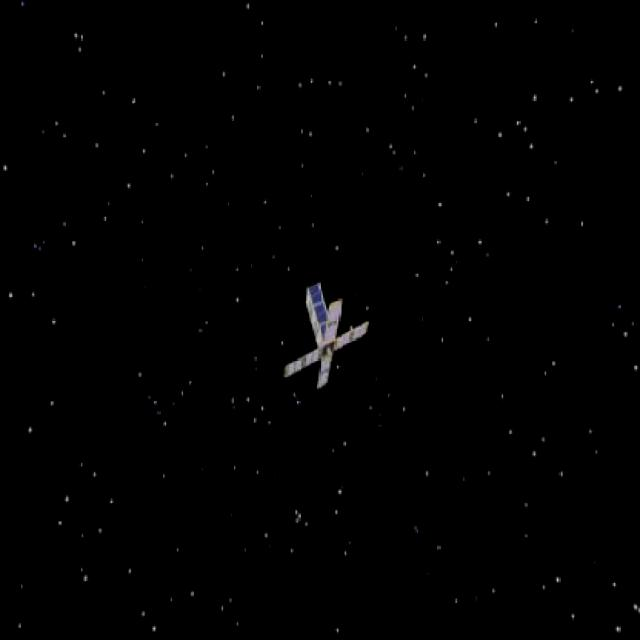medium_debris: (273, 281, 373, 402)
